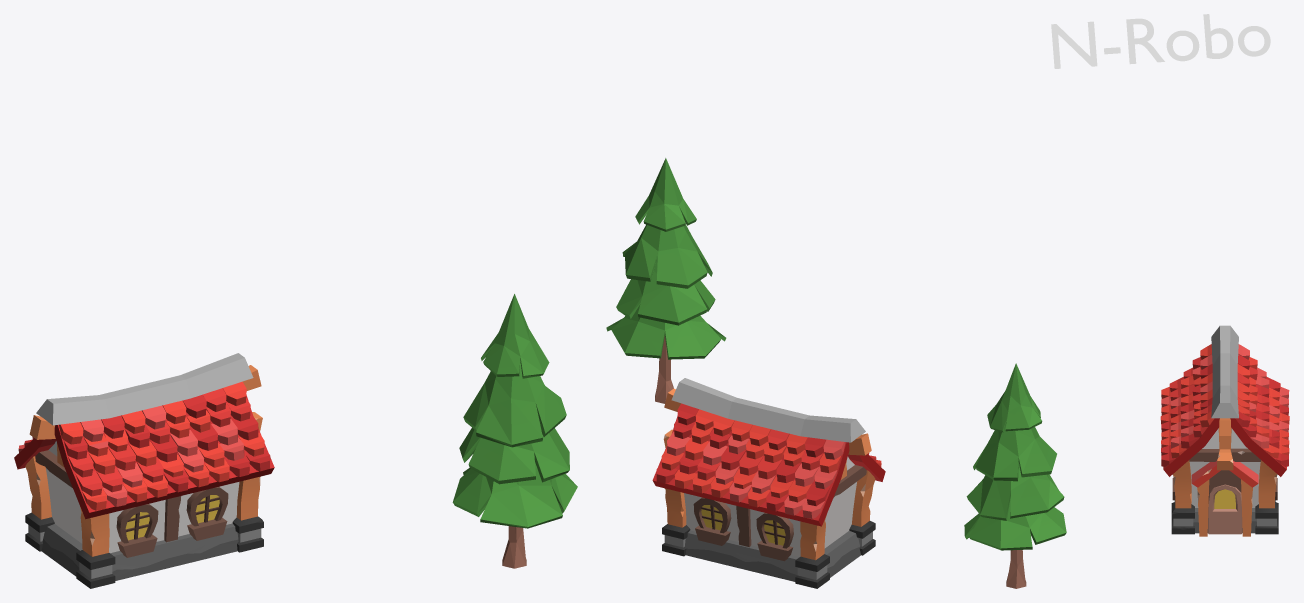
File: pb_tue.glb
The picture shows the model from 3 angles, left to right: view 1: azimuth 30°, elevation 25°; view 2: azimuth 150°, elevation 25°; view 3: azimuth 270°, elevation 25°; orthographic projection. The views are drawn at different scales.
Visible parts, largest first — view 1: house_003, fir_001; view 2: house_003, fir_001; view 3: house_003, fir_001, N-ROBO.
Boxes of the visible parts, x1,y1,x2,y2 form: house_003: (14,353,274,588); fir_001: (452,294,577,568); house_003: (652,378,885,588); fir_001: (606,158,726,403); house_003: (1160,325,1289,536); fir_001: (964,363,1066,588); N-ROBO: (1051,14,1270,68).
Bounding box in the file's own units: 9.85 × 12.54 × 8.23.
1 material, 1 textured.
